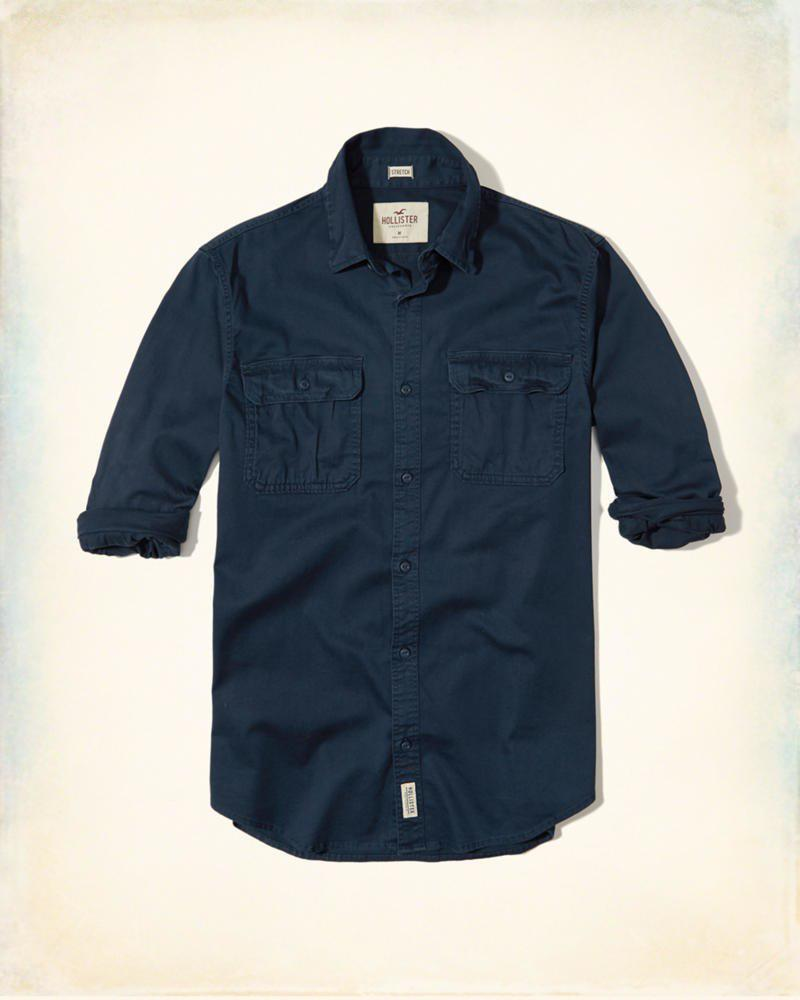teeshirt: (71, 121, 729, 877)
